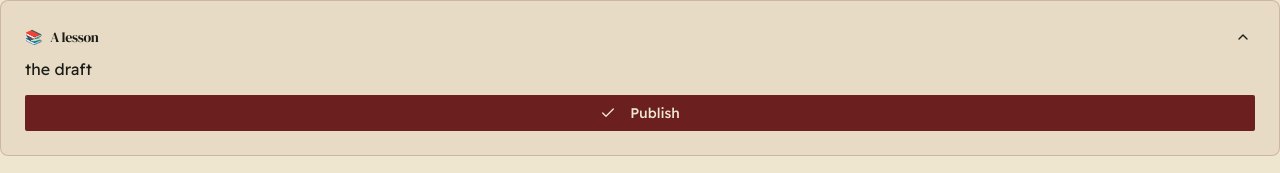
Test case: the shell every preview shares › hides the draft and the button together when collapsed
Click the 1st button at [1243, 37], box [1231,25,1255,49]
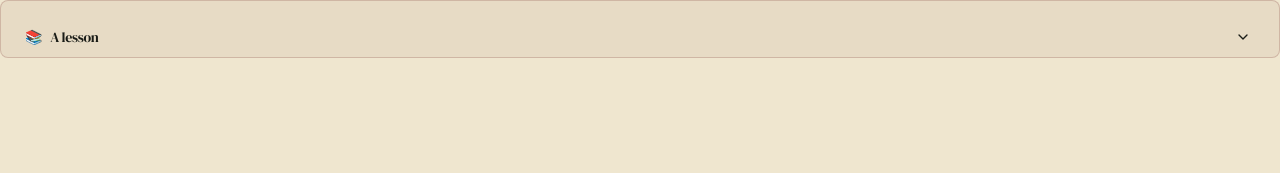
Result: the text "the draft" is gone
Result: the button "Publish" is gone
